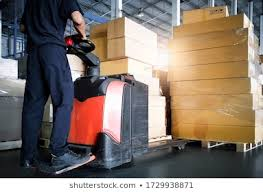Pallet Jack: (63, 33, 187, 171)
